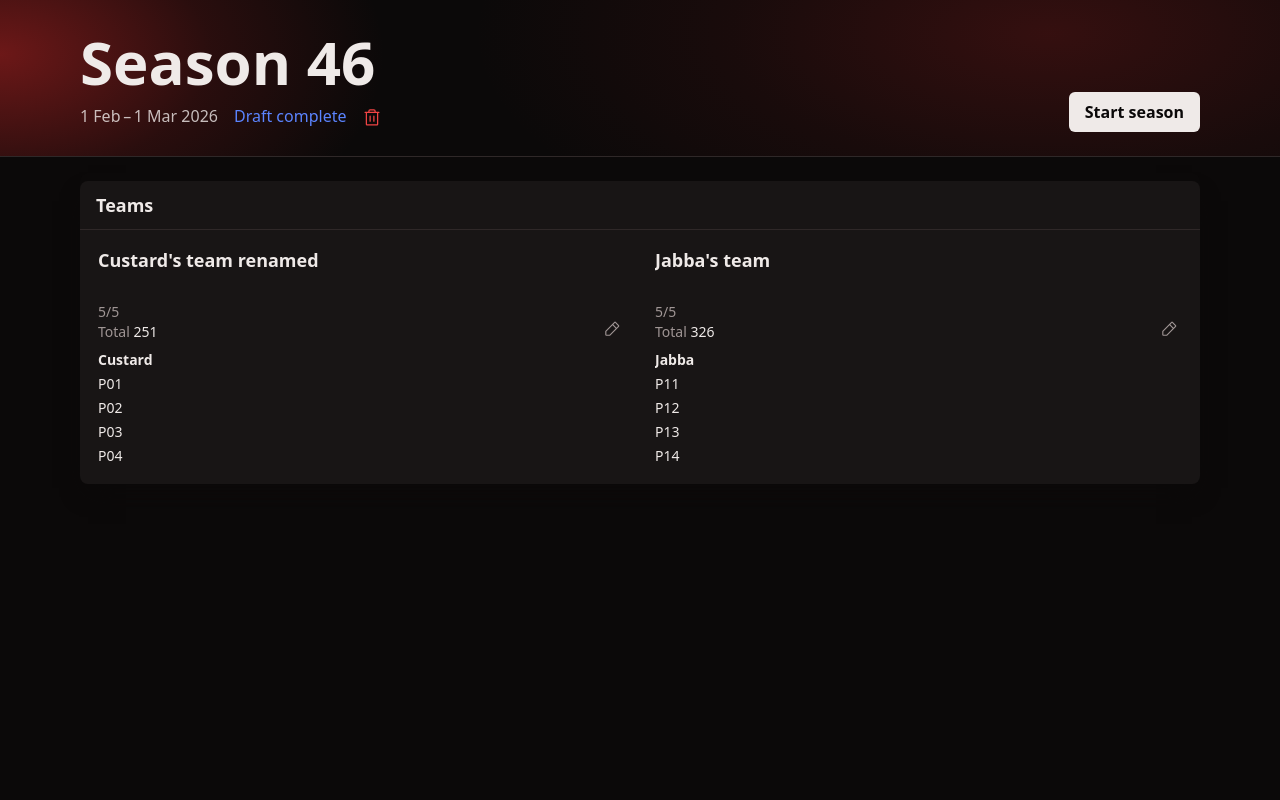
warns before starting with default team names: 1 team still has its default name.
Click the button "Start season" at (1134, 112), box top-left (1069, 92), bottom-right (1200, 132)
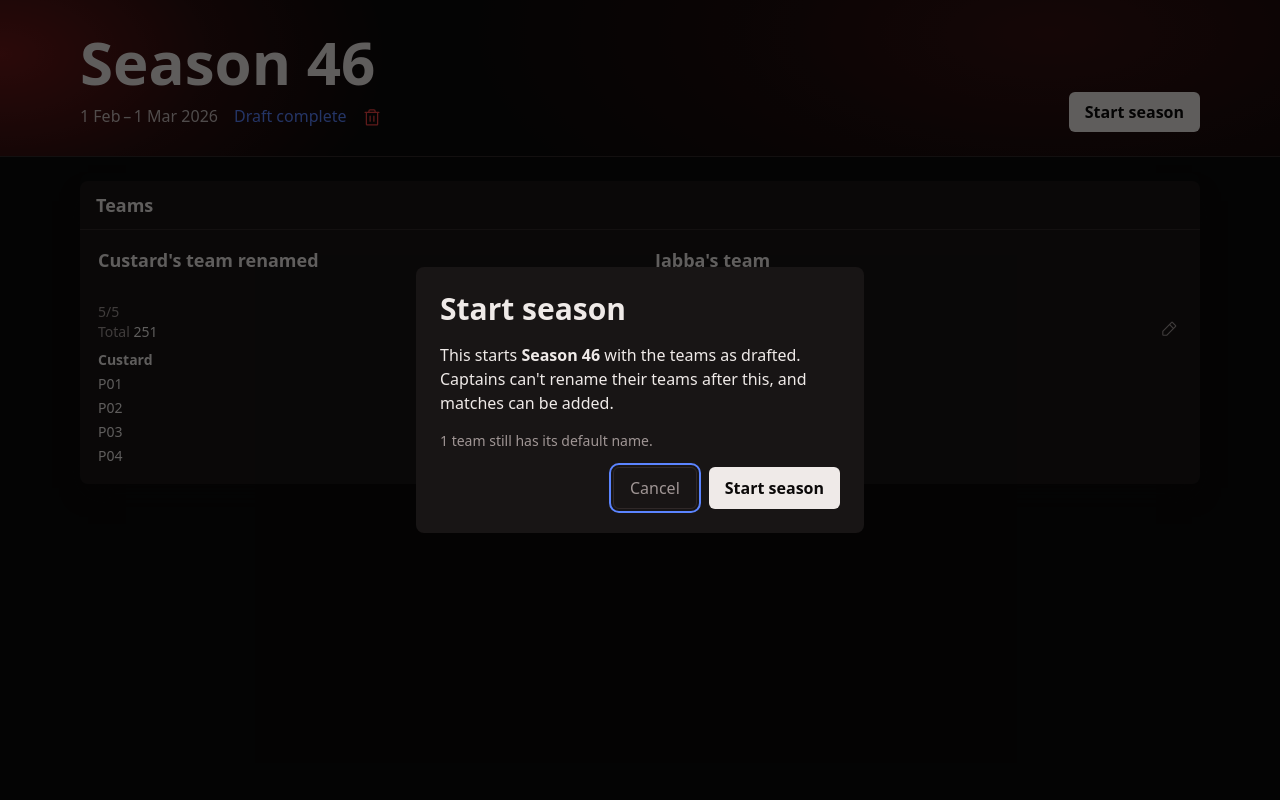
Check: the text "1 team still has its default name." is shown, box top-left (440, 431), bottom-right (653, 450)
